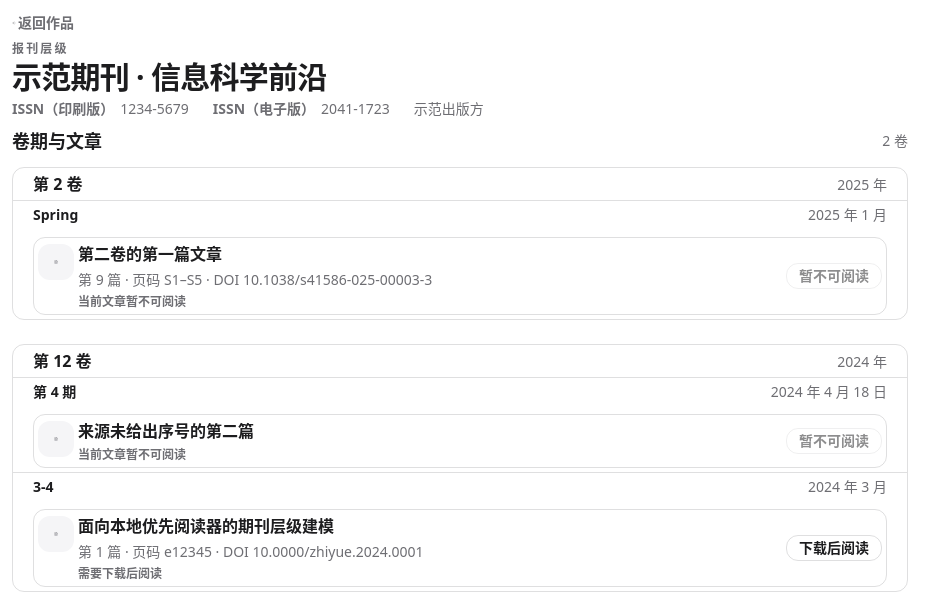
it: PeriodicalTreePage › reports a failed download creation as a retryable failure, not as a verdict
Expected: the text "需要下载后阅读" is shown, x1=78 y1=565 x2=162 y2=582
Click the button "下载后阅读".
click(834, 548)  # box x1=786 y1=535 x2=882 y2=561
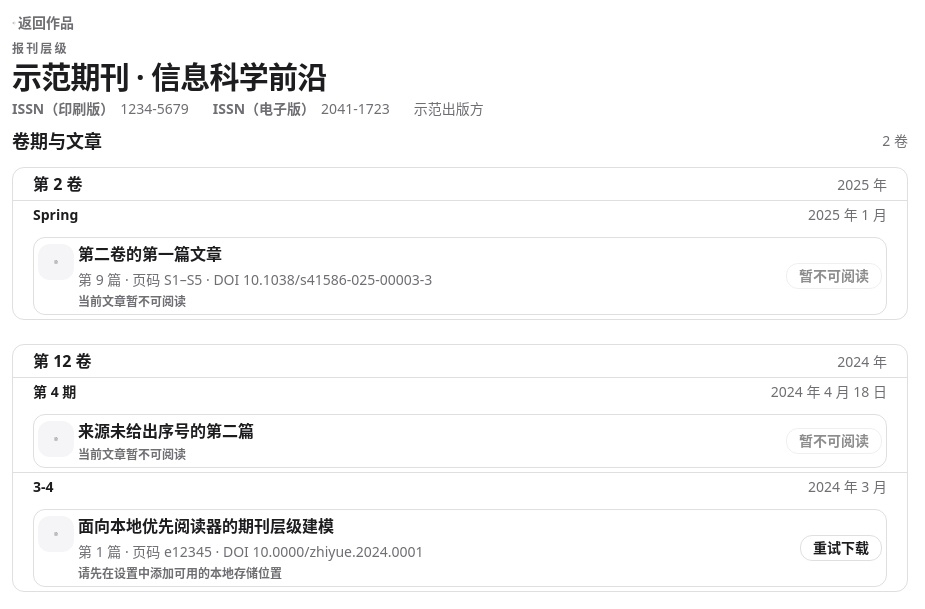
Expected: the text "请先在设置中添加可用的本地存储位置" is shown, x1=78 y1=565 x2=282 y2=582
Click the button "重试下载".
click(841, 548)  # box x1=800 y1=535 x2=882 y2=561
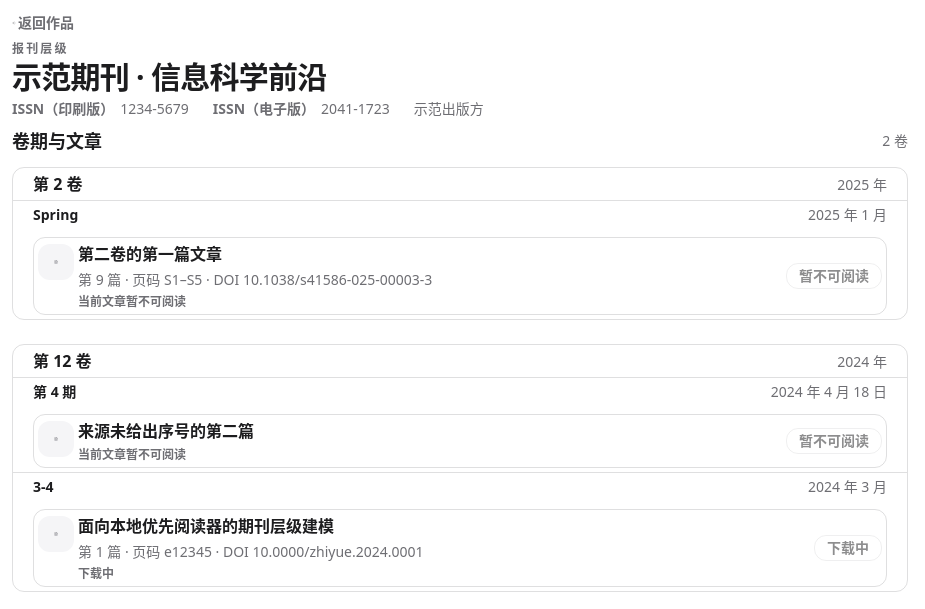
Expected: the text "请先在设置中添加可用的本地存储位置" is gone
